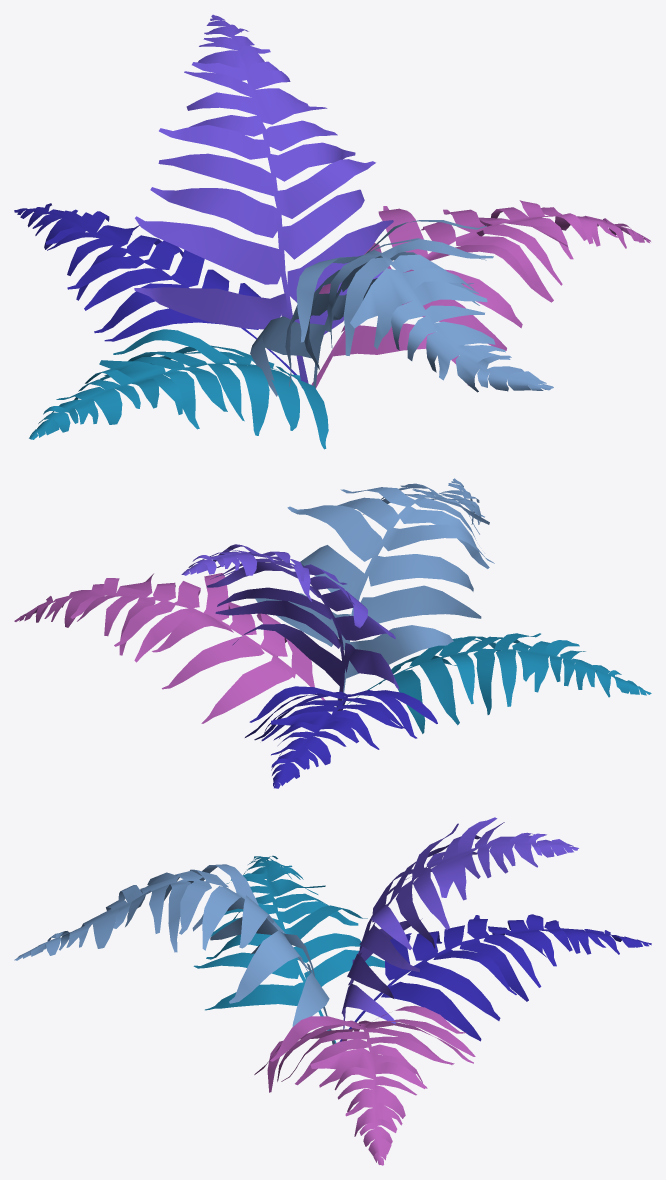
The model's file is SM_Fern_02.FBX.
3 renders of one model, top to bottom at view 1: azimuth 30°, elevation 25°; view 2: azimuth 150°, elevation 25°; view 3: azimuth 270°, elevation 25°, orthographic. The views are drawn at different scales.
Visible parts, largest first — view 1: SM_Fern_02_LOD0; view 2: SM_Fern_02_LOD0; view 3: SM_Fern_02_LOD0.
Part boxes in pixels (<box>): SM_Fern_02_LOD0: <box>14,14,650,449</box>; SM_Fern_02_LOD0: <box>14,478,651,788</box>; SM_Fern_02_LOD0: <box>14,817,651,1165</box>.
Size of the model in its own units: 216 by 203 by 79.11.
